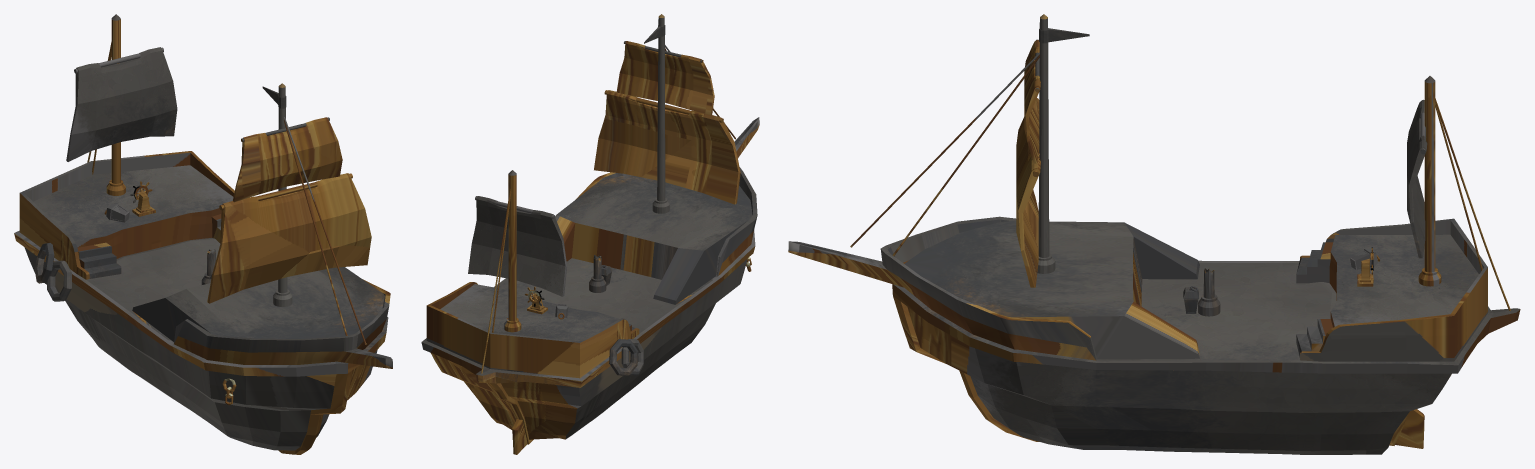
The model's file is duck boat broken mast, altered.fbx.
3 views of the same model, side by side, from view 1: azimuth 30°, elevation 25°; view 2: azimuth 150°, elevation 25°; view 3: azimuth 270°, elevation 25° (orthographic). The views are drawn at different scales.
Visible parts, largest first — view 1: pCube2_Original, polySurface6, polySurface8, pCube10, sweep10, polySurface7, polySurface5, pTorus3, pTorus4; view 2: pCube2_Original, polySurface6, polySurface8, pCube10, polySurface5, polySurface7, sweep10, pTorus4, polySurface20, pTorus3; view 3: pCube2_Original, polySurface6, polySurface5, polySurface7, sweep10, polySurface8, pCube10, polySurface20.
Part boxes in pixels (x1=…): pCube2_Original: x1=14, y1=151, x2=392, y2=454; polySurface6: x1=207, y1=173, x2=371, y2=303; polySurface8: x1=66, y1=47, x2=177, y2=161; pCube10: x1=233, y1=117, x2=342, y2=202; sweep10: x1=87, y1=42, x2=366, y2=344; polySurface7: x1=106, y1=14, x2=125, y2=195; polySurface5: x1=273, y1=83, x2=292, y2=306; pTorus3: x1=47, y1=260, x2=71, y2=301; pTorus4: x1=35, y1=243, x2=54, y2=283; pCube2_Original: x1=421, y1=117, x2=759, y2=454; polySurface6: x1=594, y1=90, x2=740, y2=204; polySurface8: x1=468, y1=196, x2=567, y2=296; pCube10: x1=616, y1=41, x2=714, y2=115; polySurface5: x1=652, y1=14, x2=669, y2=213; polySurface7: x1=504, y1=170, x2=521, y2=332; sweep10: x1=481, y1=45, x2=735, y2=373; pTorus4: x1=609, y1=339, x2=638, y2=375; polySurface20: x1=589, y1=255, x2=606, y2=292; pTorus3: x1=621, y1=339, x2=643, y2=375; pCube2_Original: x1=788, y1=216, x2=1520, y2=454; polySurface6: x1=1016, y1=98, x2=1040, y2=287; polySurface5: x1=1037, y1=14, x2=1055, y2=273; polySurface7: x1=1418, y1=76, x2=1441, y2=286; sweep10: x1=850, y1=52, x2=1510, y2=310; polySurface8: x1=1407, y1=99, x2=1427, y2=258; pCube10: x1=1024, y1=39, x2=1040, y2=163; polySurface20: x1=1198, y1=268, x2=1220, y2=316.
Bounding box in the file's own units: 7.88 × 14.1 × 21.57.
